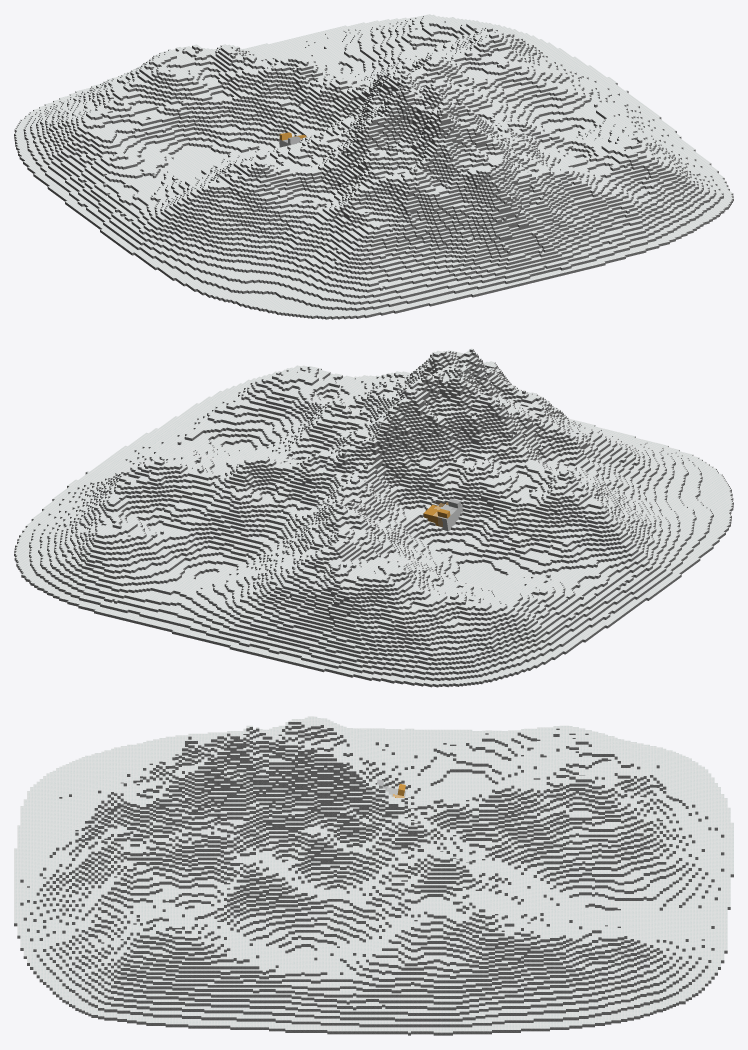
File: terrainmountain.glb
The picture shows the model from 3 angles, top to bottom: view 1: azimuth 30°, elevation 25°; view 2: azimuth 150°, elevation 25°; view 3: azimuth 270°, elevation 25°; orthographic projection. The views are drawn at different scales.
Parts seen in each view (by area): view 1: Landscape; view 2: Landscape, Object_13; view 3: Landscape.
Boxes of the visible parts, x1,y1,x2,y2 form: Landscape: (14,14,733,319); Landscape: (14,348,733,687); Object_13: (423,498,462,531); Landscape: (14,716,733,1035).
Bounding box in the file's own units: 16.73 × 3.83 × 16.73.
3 materials, 3 textured.
